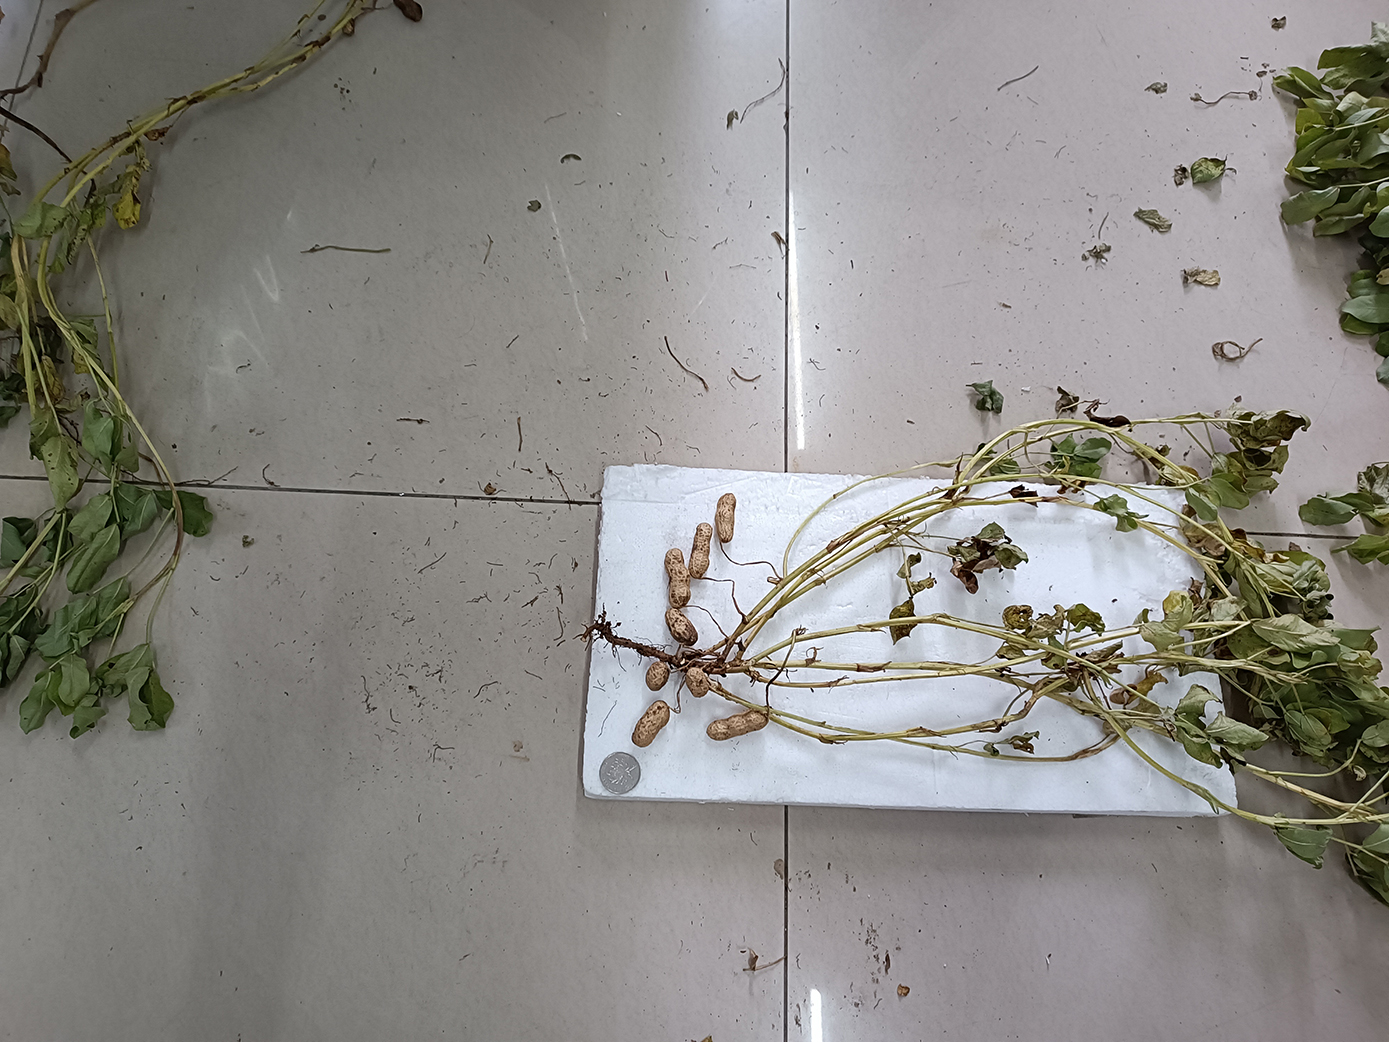h: (706, 711, 769, 741), (630, 701, 669, 748), (664, 548, 691, 609), (664, 607, 698, 646), (688, 523, 711, 579), (714, 493, 737, 544), (645, 660, 670, 691), (685, 667, 709, 698)
